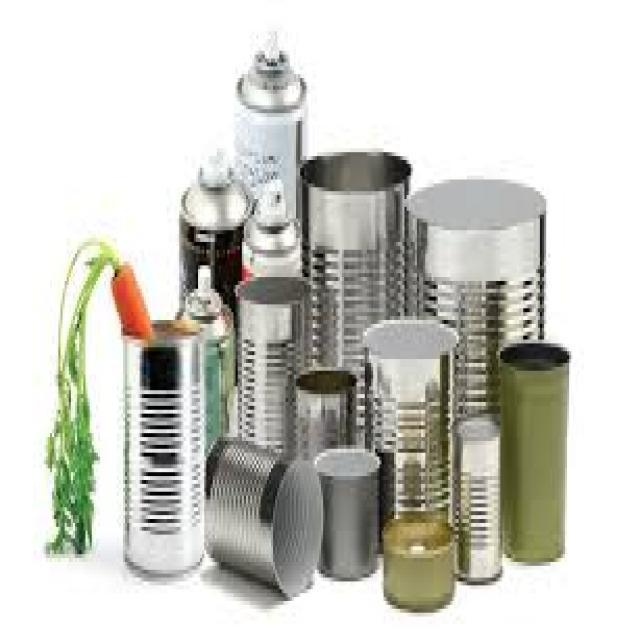recyclable: (405, 177, 548, 417), (298, 148, 412, 440), (364, 314, 460, 552), (120, 315, 204, 579), (205, 438, 325, 600), (498, 341, 571, 566), (236, 274, 310, 462), (231, 47, 307, 224), (180, 162, 252, 318), (177, 286, 237, 453), (448, 412, 504, 588), (316, 446, 380, 584), (382, 508, 455, 616), (296, 367, 357, 465), (240, 204, 302, 281)
